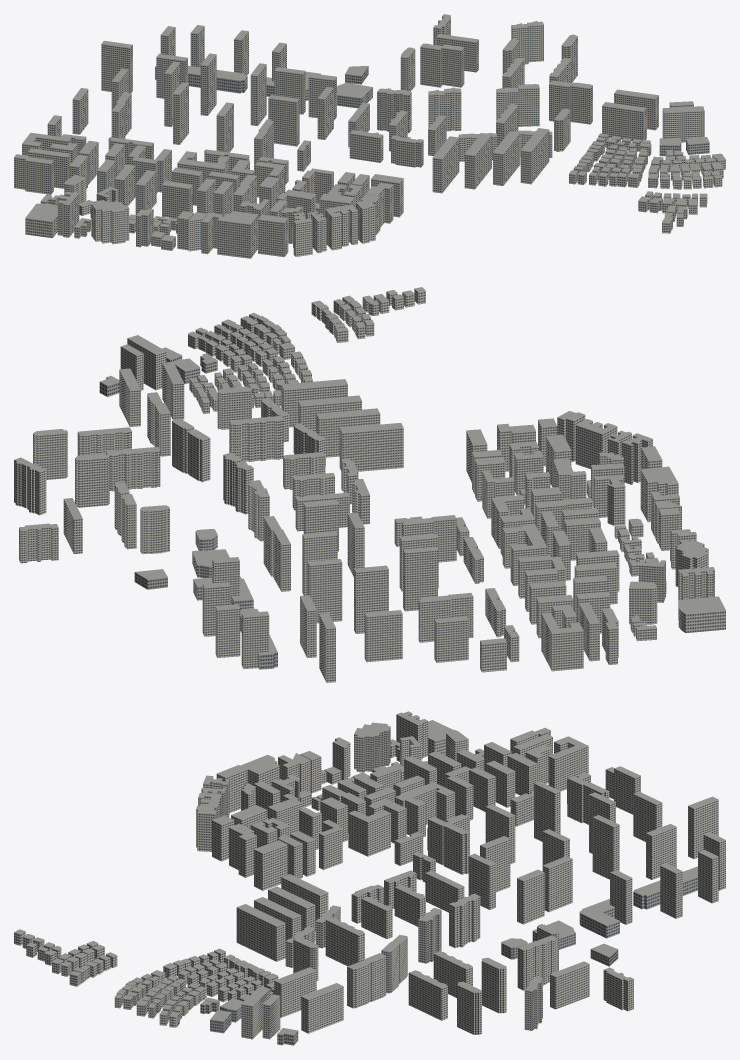
3 renders of one model, top to bottom at view 1: azimuth 30°, elevation 25°; view 2: azimuth 150°, elevation 25°; view 3: azimuth 270°, elevation 25°, orthographic. The views are drawn at different scales.
Visible parts, largest first — view 1: ctx-apartments, ctx-roof, ctx-commercial; view 2: ctx-apartments, ctx-roof, ctx-commercial, ctx-other; view 3: ctx-apartments, ctx-roof, ctx-commercial, ctx-other.
Part boxes in pixels (bbox=[...]): ctx-apartments: bbox=[14, 15, 725, 258]; ctx-roof: bbox=[14, 14, 725, 241]; ctx-commercial: bbox=[155, 67, 709, 156]; ctx-apartments: bbox=[14, 289, 725, 682]; ctx-roof: bbox=[14, 287, 725, 654]; ctx-commercial: bbox=[166, 355, 277, 669]; ctx-other: bbox=[99, 355, 217, 589]; ctx-apartments: bbox=[14, 713, 725, 1039]; ctx-roof: bbox=[14, 711, 725, 1034]; ctx-commercial: bbox=[210, 877, 697, 1033]; ctx-other: bbox=[200, 949, 618, 1045].
Bounding box in the file's own units: 951 × 90.3 × 899.
4 materials, 3 textured.
